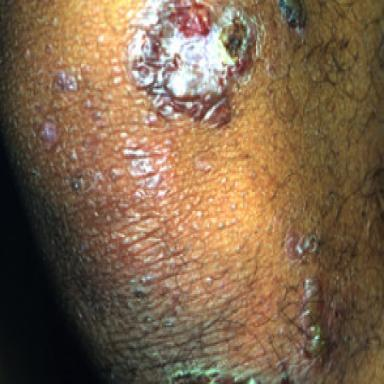Epidermolysis-Bullosa-Pruriginosa: (124, 0, 264, 125), (290, 277, 337, 384), (122, 136, 171, 189), (165, 362, 261, 383), (284, 231, 319, 264), (277, 0, 307, 38), (53, 68, 82, 91), (40, 120, 59, 150), (196, 160, 211, 172)
